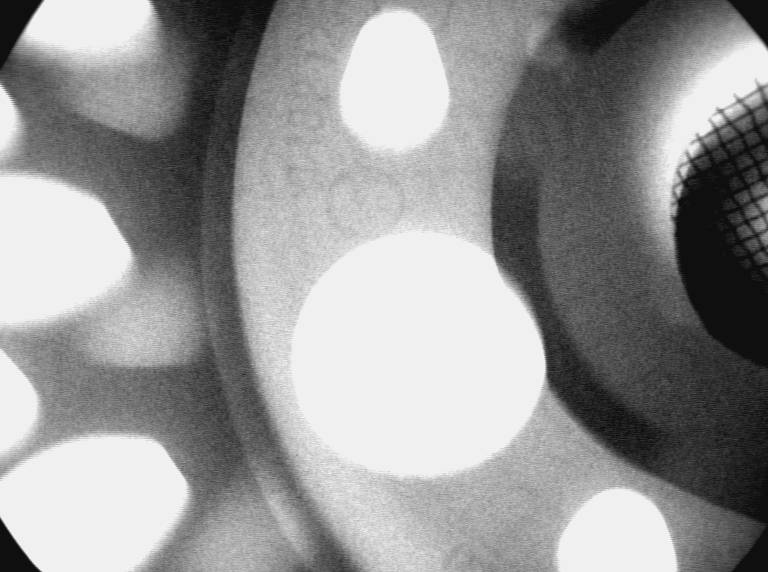defect: (525, 15, 572, 72)
